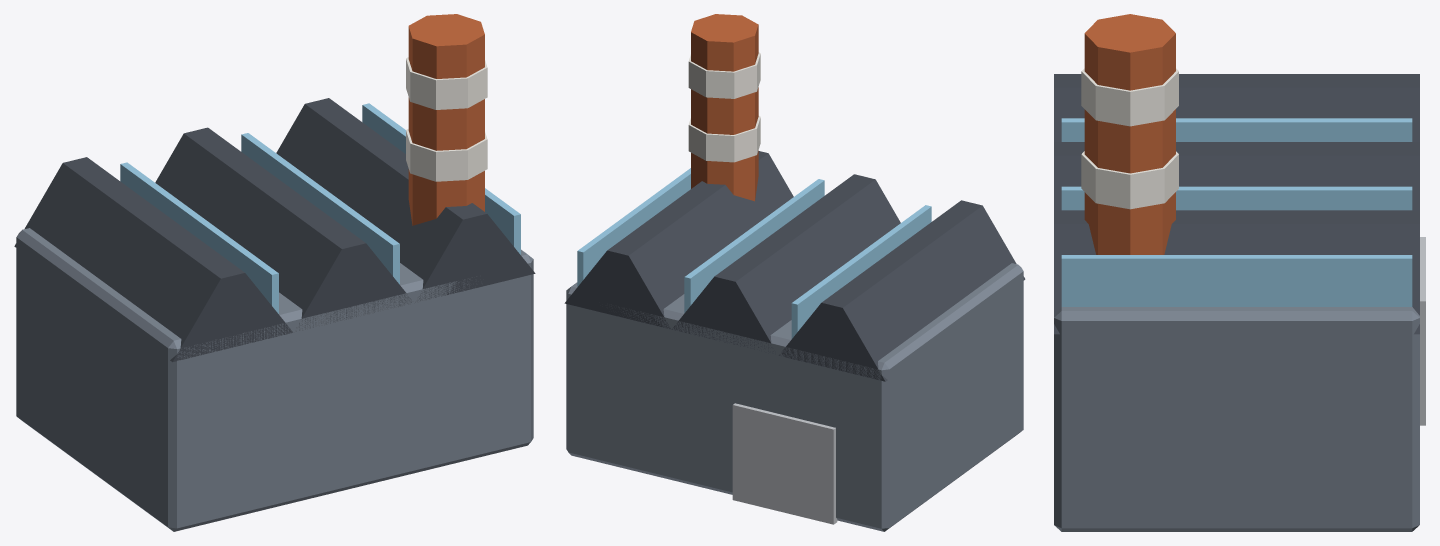
Rendered from factory.glb.
The picture shows the model from 3 angles, left to right: view 1: azimuth 30°, elevation 25°; view 2: azimuth 150°, elevation 25°; view 3: azimuth 270°, elevation 25°; orthographic projection. The views are drawn at different scales.
Visible parts, largest first — view 1: factory; view 2: factory; view 3: factory.
Boxes of the visible parts, left/top/right/bottom form: factory: left=14, top=14, right=535, bottom=531; factory: left=564, top=14, right=1025, bottom=531; factory: left=1054, top=14, right=1425, bottom=531.
Bounding box in the file's own units: 3.2 × 3.4 × 2.44.
Materials: 1 (1 with a texture image).
